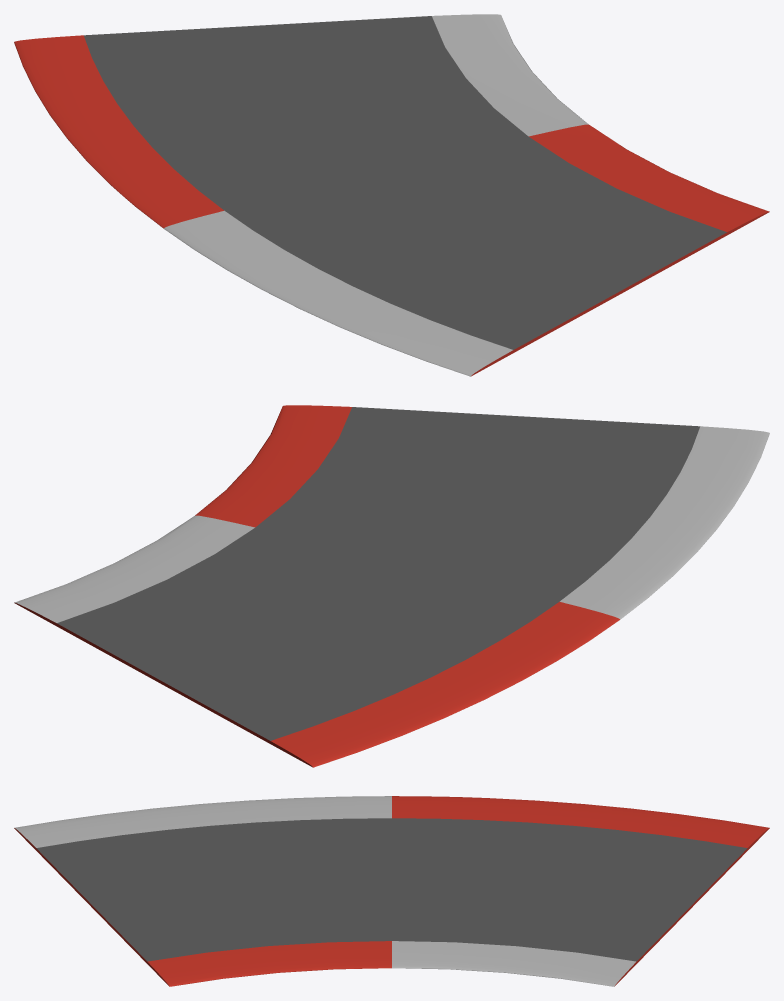
File: VirageGrand.fbx
3 views of the same model, one above another, from view 1: azimuth 30°, elevation 25°; view 2: azimuth 150°, elevation 25°; view 3: azimuth 270°, elevation 25° (orthographic). The views are drawn at different scales.
Visible parts, largest first — view 1: Body16; view 2: Body16; view 3: Body16.
Boxes of the visible parts, x1=… form: Body16: x1=14, y1=14, x2=769, y2=376; Body16: x1=14, y1=405, x2=769, y2=767; Body16: x1=14, y1=796, x2=769, y2=986.
Size of the model in its own units: 15.52 by 0.1 by 26.02.
